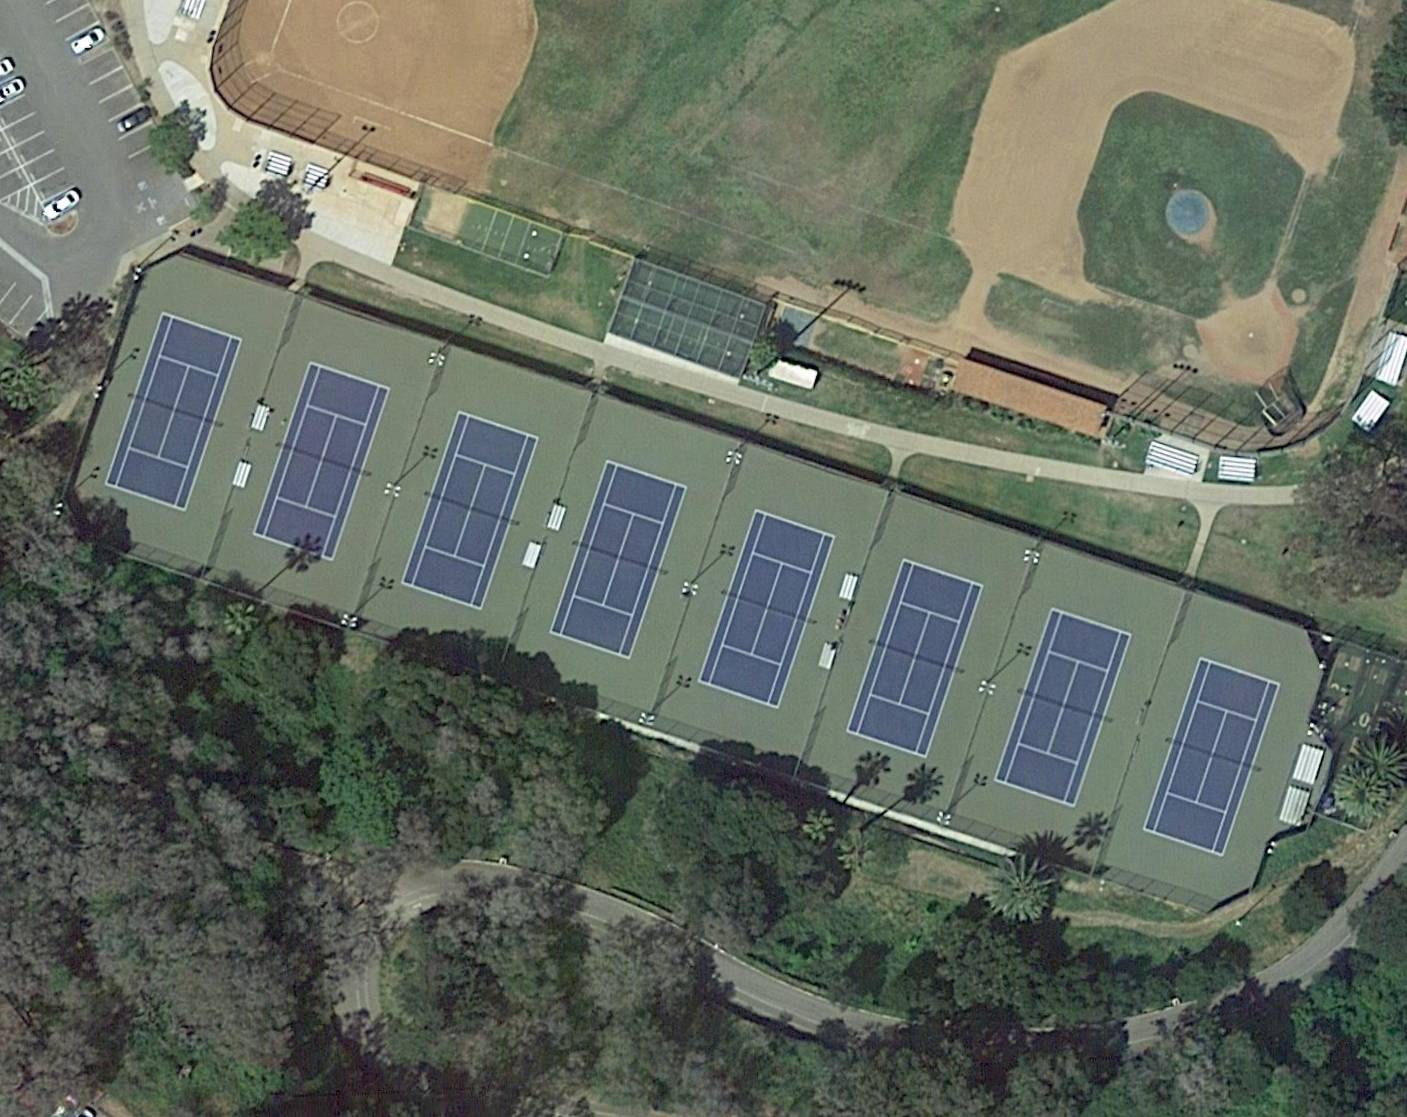baseball diamond: (943, 0, 1369, 334), (267, 0, 553, 150)
small vehicle: (69, 24, 108, 58), (43, 187, 83, 220), (116, 109, 151, 135)
tennis court: (696, 507, 837, 709), (401, 410, 540, 612), (992, 606, 1132, 807), (844, 558, 984, 757), (1142, 657, 1281, 857), (105, 312, 243, 512), (548, 459, 688, 657), (254, 360, 391, 560)
